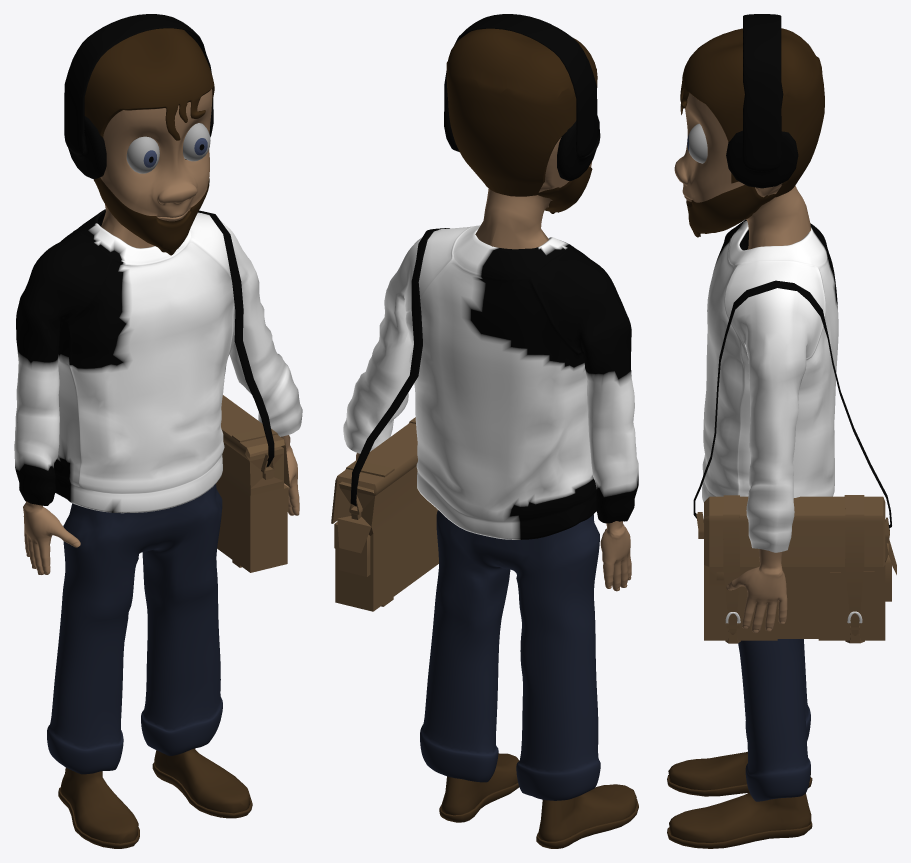
Rendered from mainCharacter.fbx.
3 renders of one model, left to right at view 1: azimuth 30°, elevation 25°; view 2: azimuth 150°, elevation 25°; view 3: azimuth 270°, elevation 25°, orthographic. The views are drawn at different scales.
Visible parts, largest first — view 1: jumper1, pants, head, bag, shoes, headphones, handle, handL, soles, eyeL, eyeR, handR; view 2: jumper1, pants, head, bag, headphones, shoes, handle, handL, soles; view 3: jumper1, bag, head, pants, headphones, shoes, handR, handle, soles, eyeR.
Part boxes in pixels (bbox=[...]): jumper1: bbox=[14, 209, 302, 513]; pants: bbox=[47, 484, 222, 774]; head: bbox=[84, 28, 214, 255]; bag: bbox=[216, 395, 289, 572]; shoes: bbox=[60, 748, 250, 843]; headphones: bbox=[64, 14, 213, 179]; handle: bbox=[198, 210, 274, 466]; handL: bbox=[23, 501, 80, 574]; soles: bbox=[58, 762, 252, 848]; eyeL: bbox=[126, 136, 159, 173]; eyeR: bbox=[183, 123, 210, 161]; handR: bbox=[281, 435, 299, 515]; jumper1: bbox=[343, 225, 638, 539]; pants: bbox=[420, 510, 600, 800]; head: bbox=[446, 28, 597, 249]; bag: bbox=[331, 417, 438, 611]; headphones: bbox=[444, 14, 600, 180]; shoes: bbox=[441, 753, 636, 841]; handle: bbox=[350, 228, 449, 505]; handL: bbox=[600, 521, 631, 591]; soles: bbox=[439, 783, 638, 848]; jumper1: bbox=[702, 219, 838, 552]; bag: bbox=[696, 495, 896, 643]; head: bbox=[674, 28, 824, 249]; pants: bbox=[738, 639, 810, 801]; headphones: bbox=[726, 14, 798, 188]; shoes: bbox=[668, 751, 811, 842]; handR: bbox=[726, 549, 787, 633]; handle: bbox=[693, 280, 891, 528]; soles: bbox=[667, 775, 812, 848]; eyeR: bbox=[687, 123, 707, 163].
Size of the model in its own units: 6.82 by 17.91 by 4.73.
